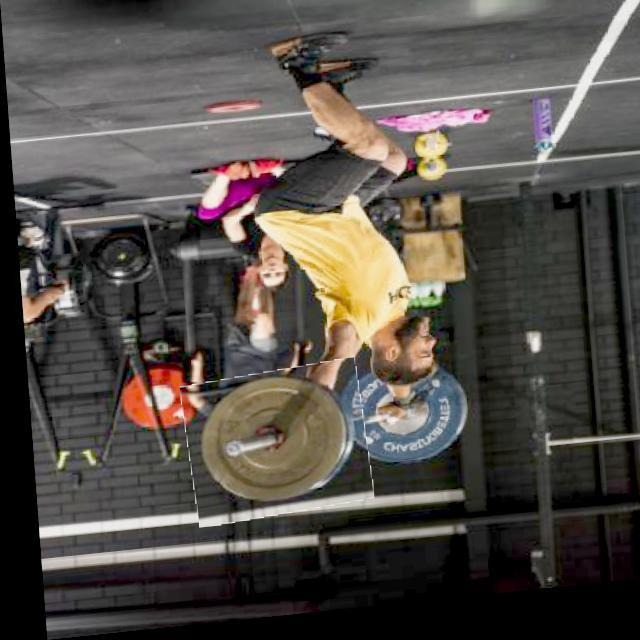barbell: (177, 367, 366, 529)
